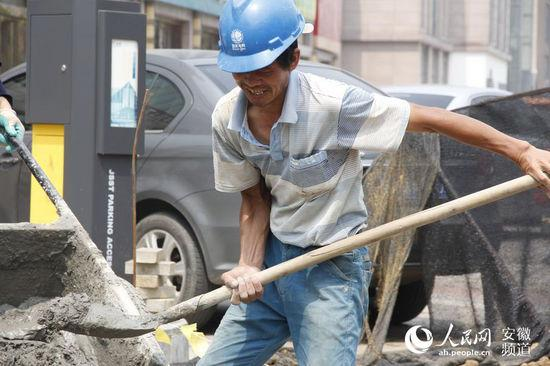helmet: (212, 1, 306, 72)
